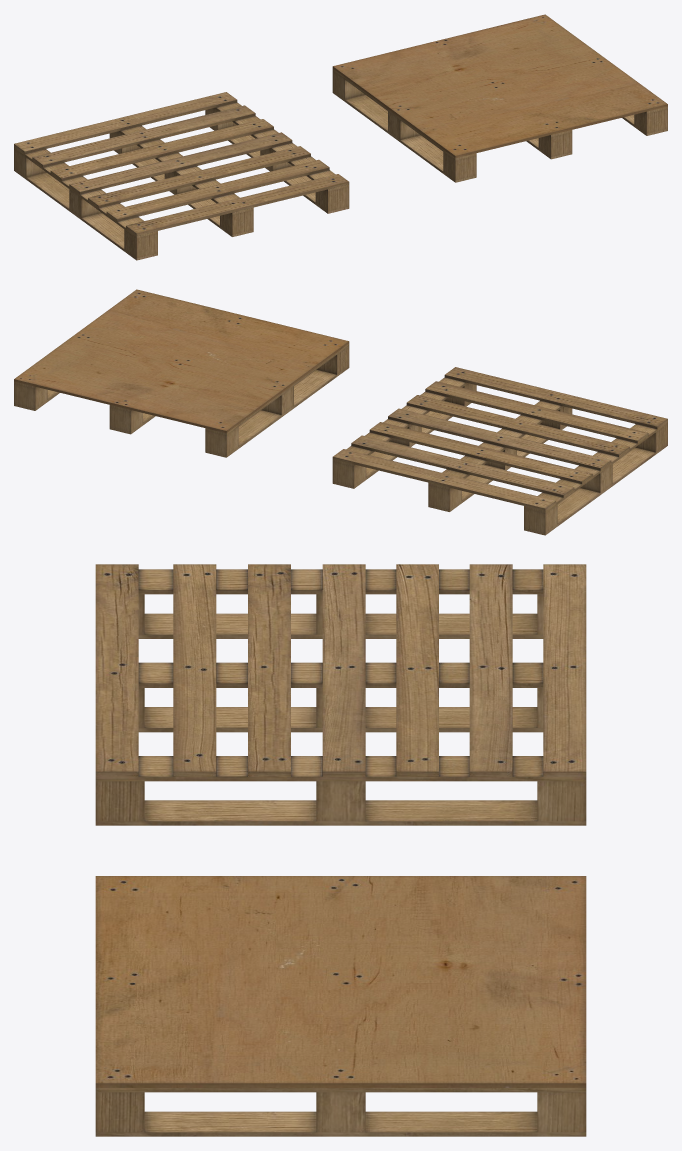
3 views of the same model, one above another, from view 1: azimuth 30°, elevation 25°; view 2: azimuth 150°, elevation 25°; view 3: azimuth 270°, elevation 25° (orthographic). The views are drawn at different scales.
Visible parts, largest first — view 1: Pallet_2, Pallet_1; view 2: Pallet_2, Pallet_1; view 3: Pallet_2, Pallet_1.
Part boxes in pixels (box(x1,y1,x2,y2)): Pallet_2: box(332, 14, 667, 182); Pallet_1: box(14, 92, 349, 260); Pallet_2: box(14, 289, 349, 457); Pallet_1: box(332, 367, 667, 535); Pallet_2: box(95, 876, 586, 1136); Pallet_1: box(95, 564, 586, 825).
Bounding box in the file's own units: 5 × 0.2429 × 2.
Materials: 2 (2 with a texture image).
